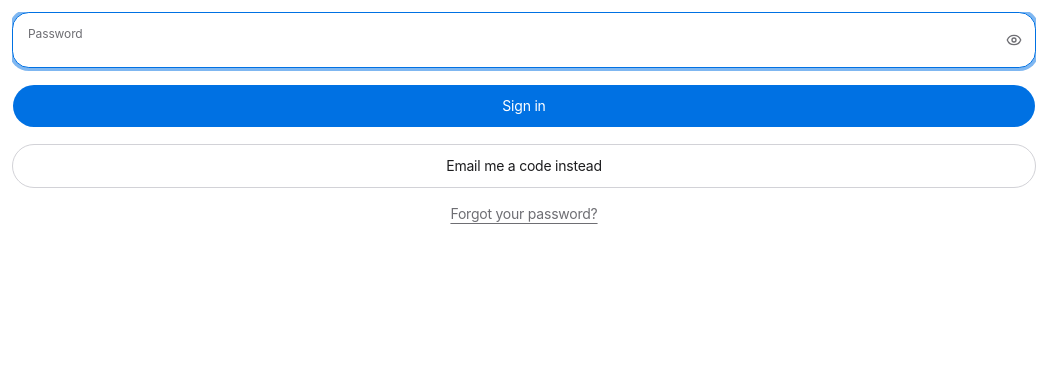
Test case: PasswordStep with two-factor sign-in › asks for the code only after the API wants it, then sends both
Later steps or results of the test are not shown.
Expected: the field labelled "Verification code" is not shown
Type "correct horse battery" into the password field labelled "Password" at (524, 40), box [12,12,1036,68]
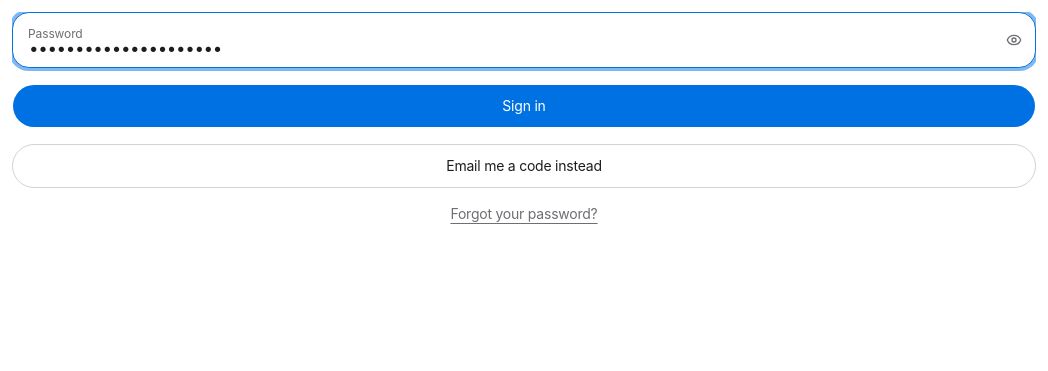
Click the button "Sign in" at (524, 106), box [12,84,1036,128]
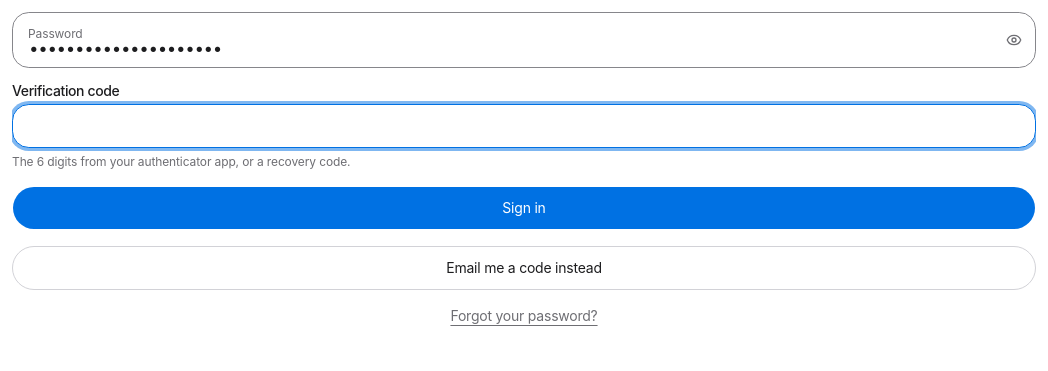
Type "000000" into the field labelled "Verification code" at (524, 126), box [12,104,1036,148]
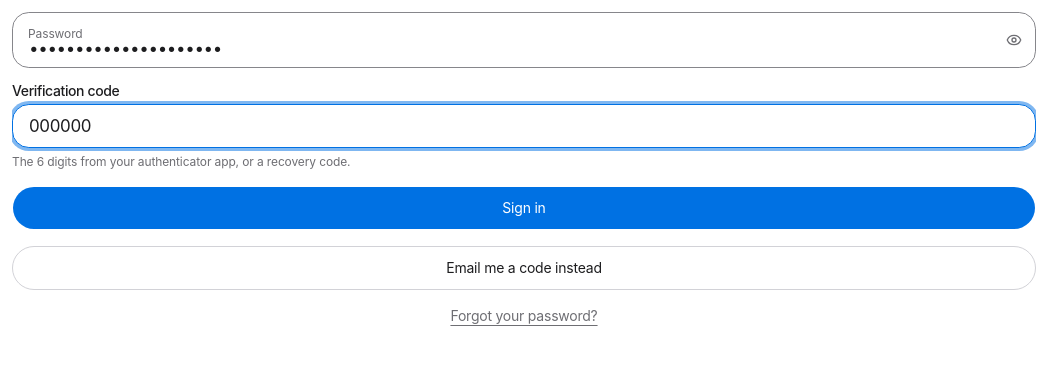
Click the button "Sign in" at (524, 208), box [12,186,1036,230]
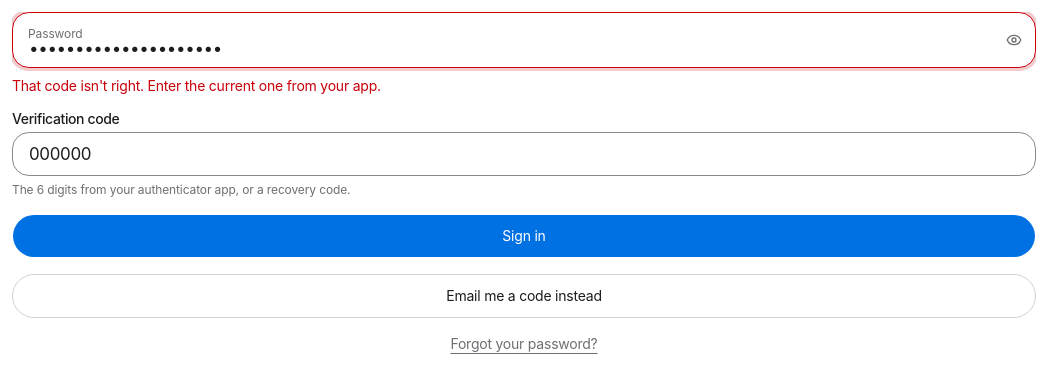
Expected: the message shows "That code isn't right.", [12,77,381,94]
